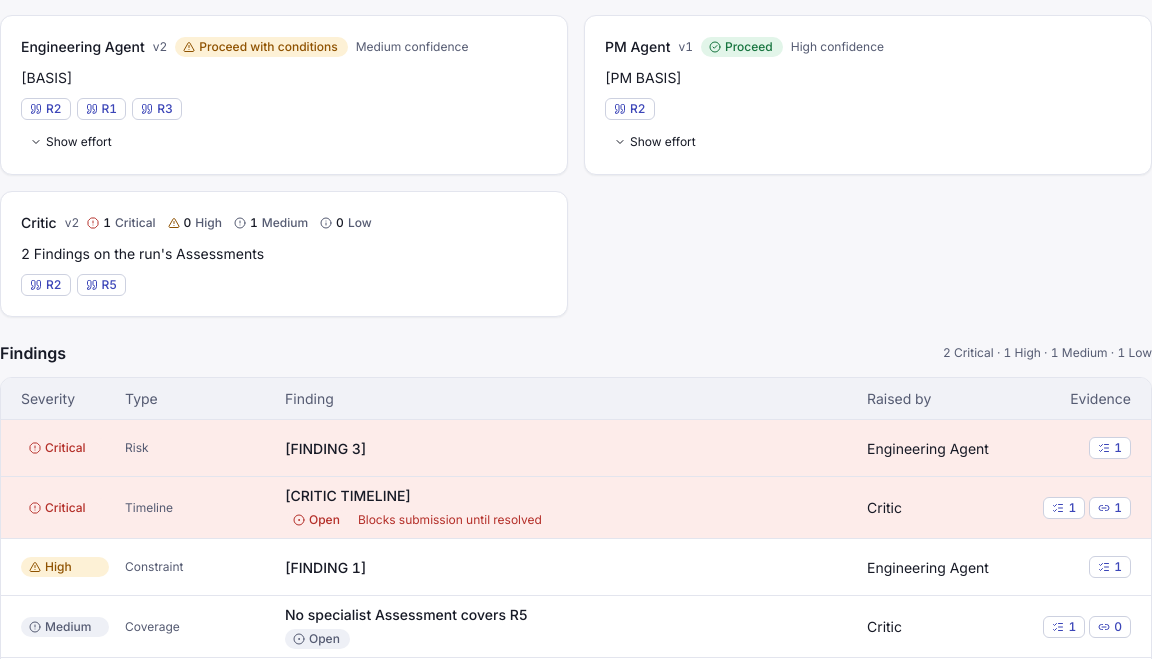
Scenario: the Critic (Story 6.4) › passes the Opportunity to the Critic inspector: a Finding the caller may resolve shows its actions
(page scrolled)
Step 1. Click the button "[CRITIC TIMELINE]" → click(65, 508), box [1, 477, 1151, 538]
(page scrolled)
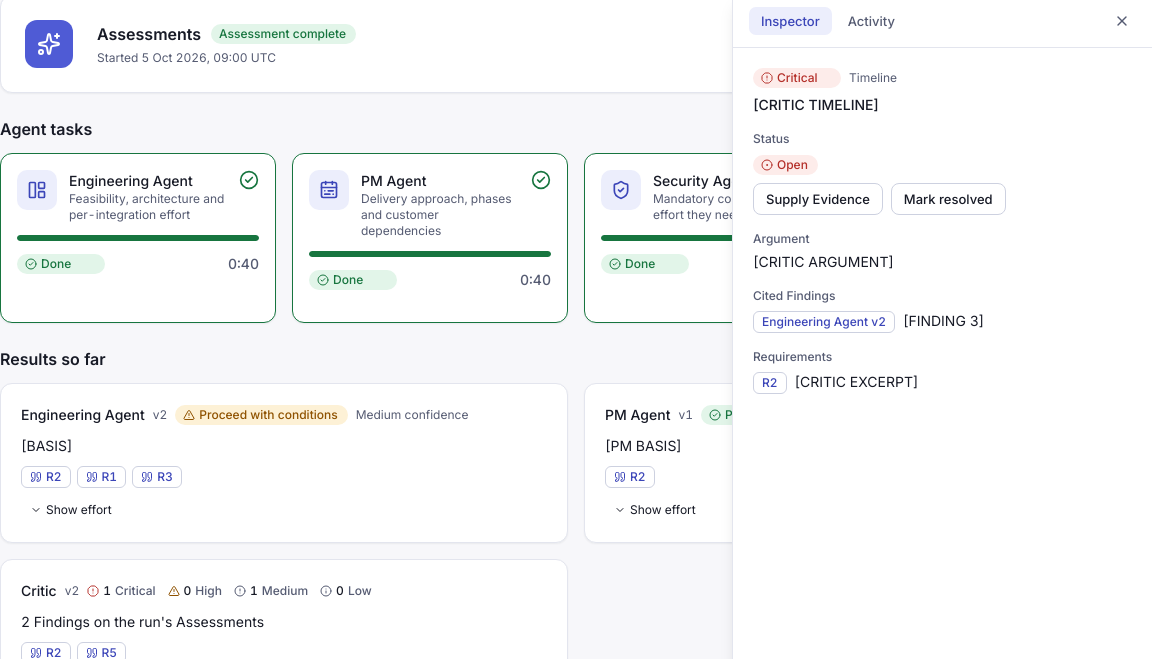
Result: the button "Mark resolved" is shown at [891, 183, 1006, 215]
